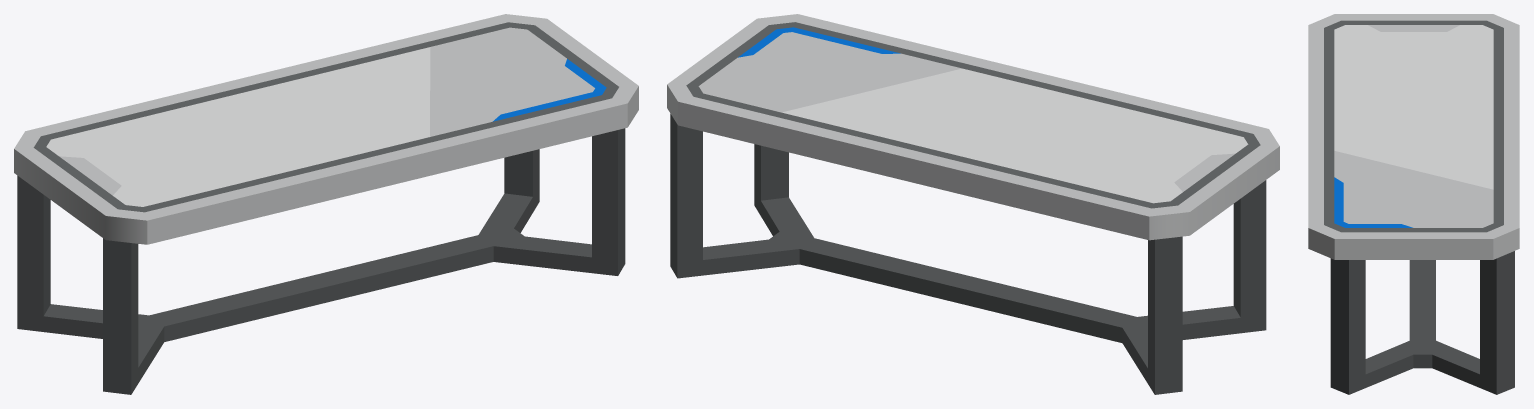
File: Desk_022.glb
3 views of the same model, side by side, from view 1: azimuth 30°, elevation 25°; view 2: azimuth 150°, elevation 25°; view 3: azimuth 270°, elevation 25° (orthographic). The views are drawn at different scales.
Parts seen in each view (by area): view 1: Desk_022; view 2: Desk_022; view 3: Desk_022.
Boxes of the visible parts, left/top/right/bottom form: Desk_022: left=14, top=14, right=638, bottom=394; Desk_022: left=667, top=14, right=1279, bottom=394; Desk_022: left=1308, top=14, right=1519, bottom=394.
Size of the model in its own units: 2.44 by 0.8017 by 0.9698.
Materials: 2 (2 with a texture image).
